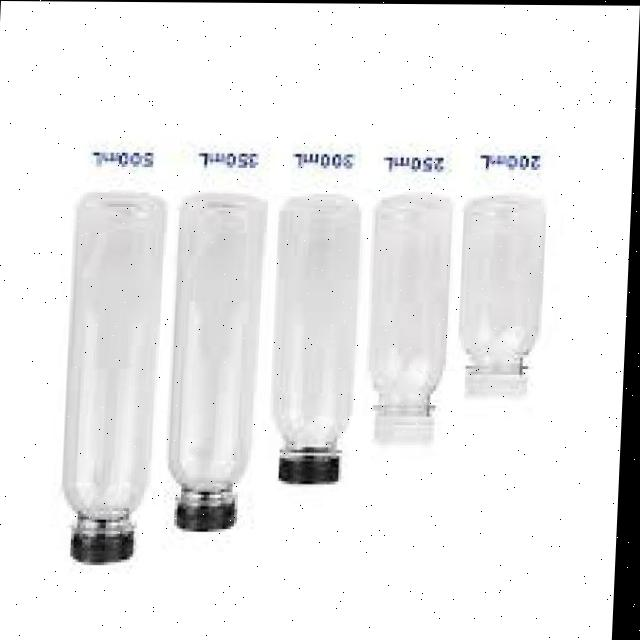bottle: (33, 172, 164, 566), (165, 189, 270, 545), (259, 160, 362, 495), (358, 186, 457, 461), (451, 178, 563, 408)
